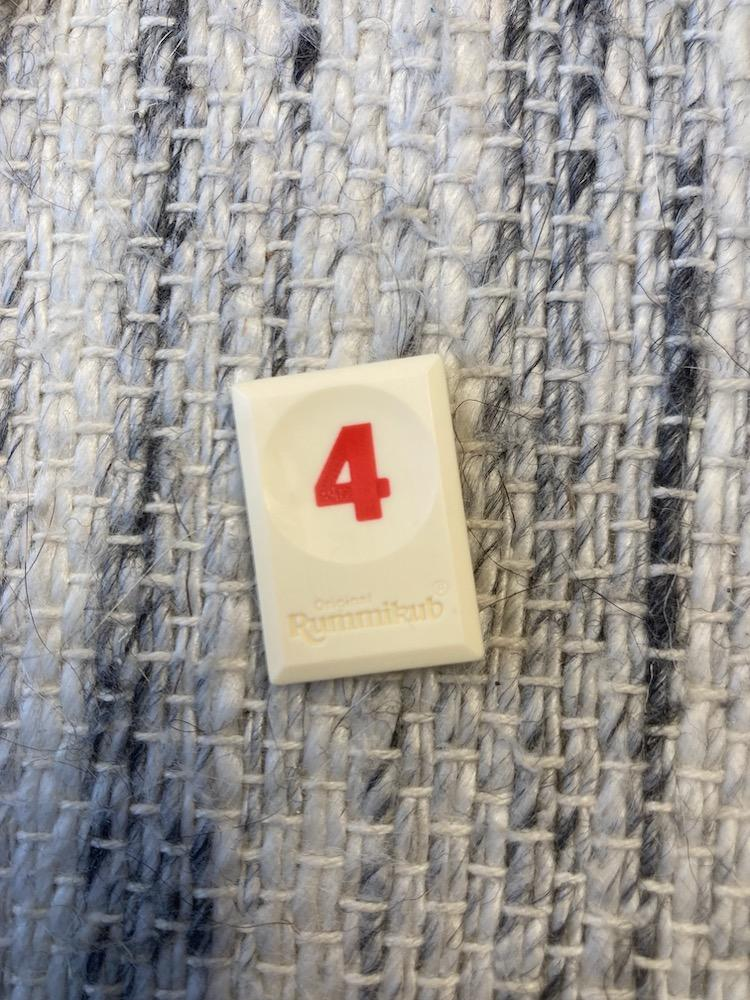red_4: (232, 357, 482, 684)
